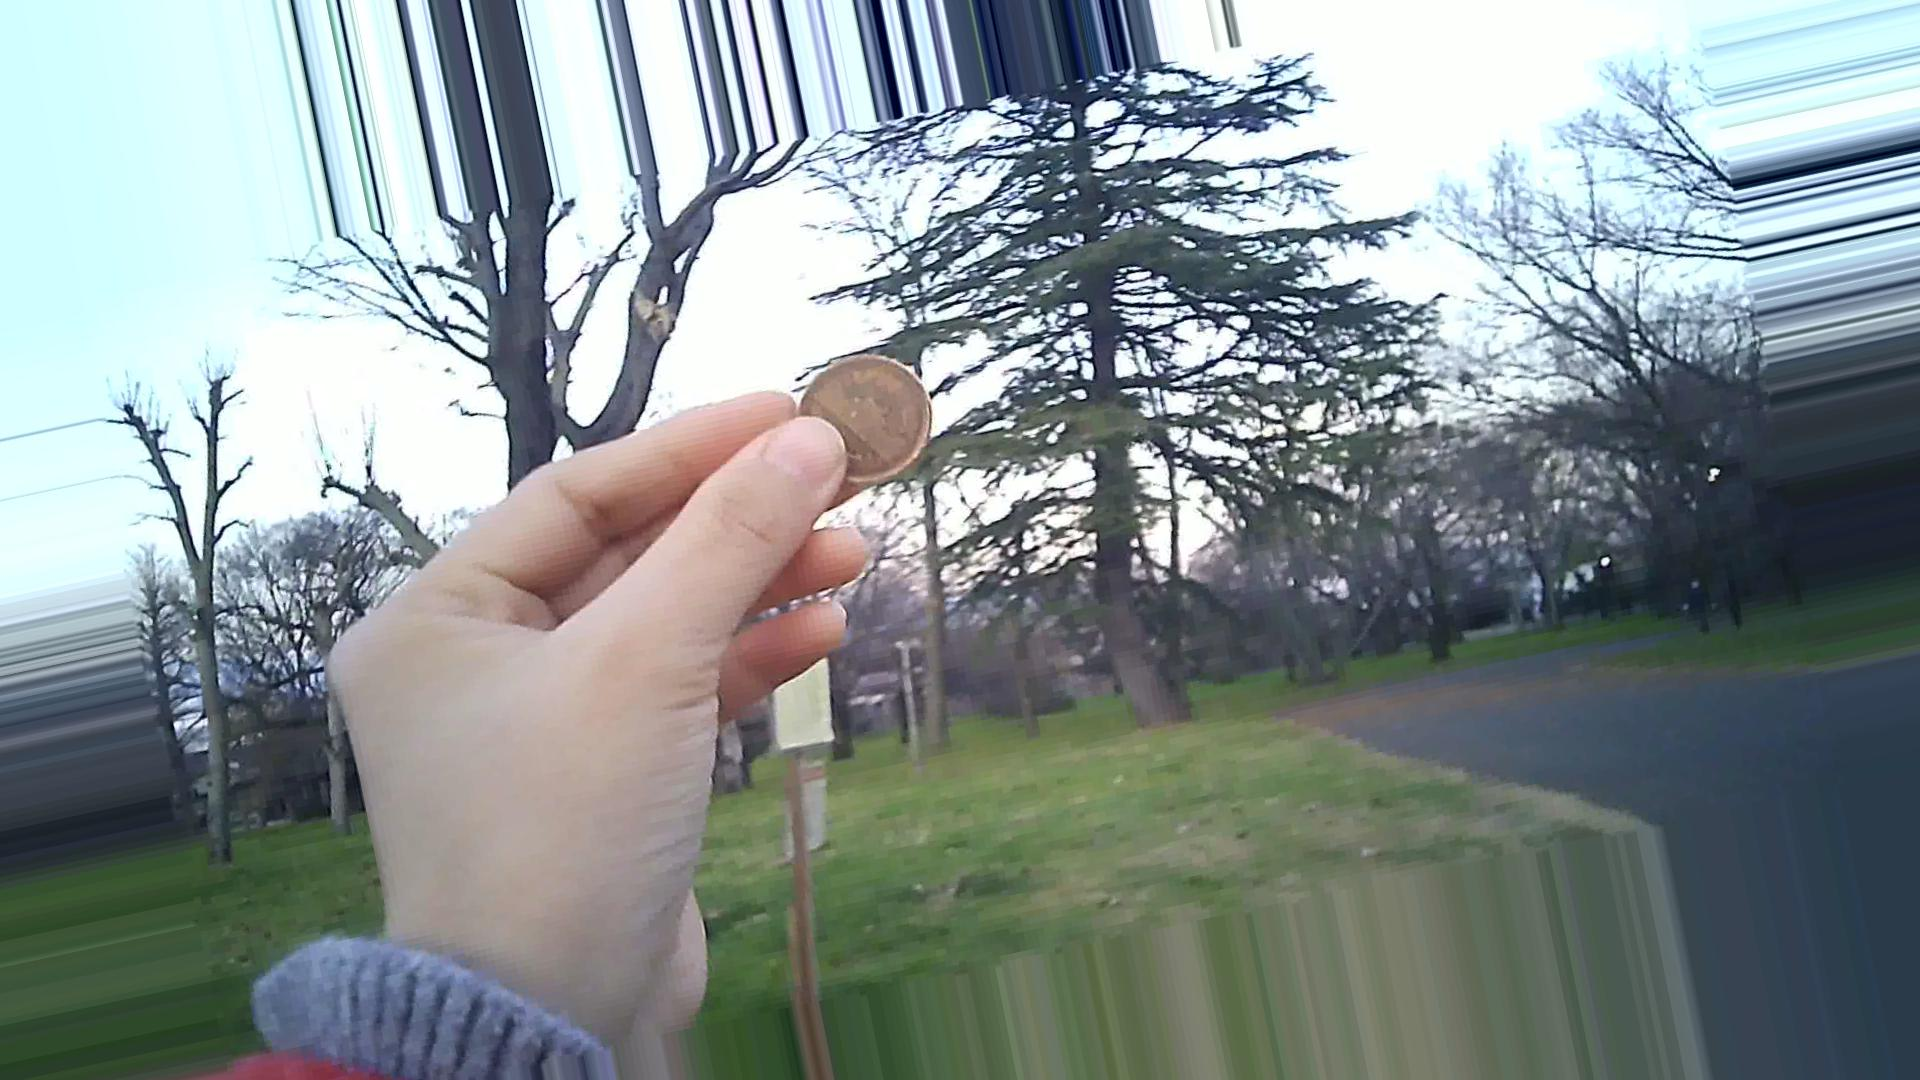10 Yen: (800, 347, 936, 510)
